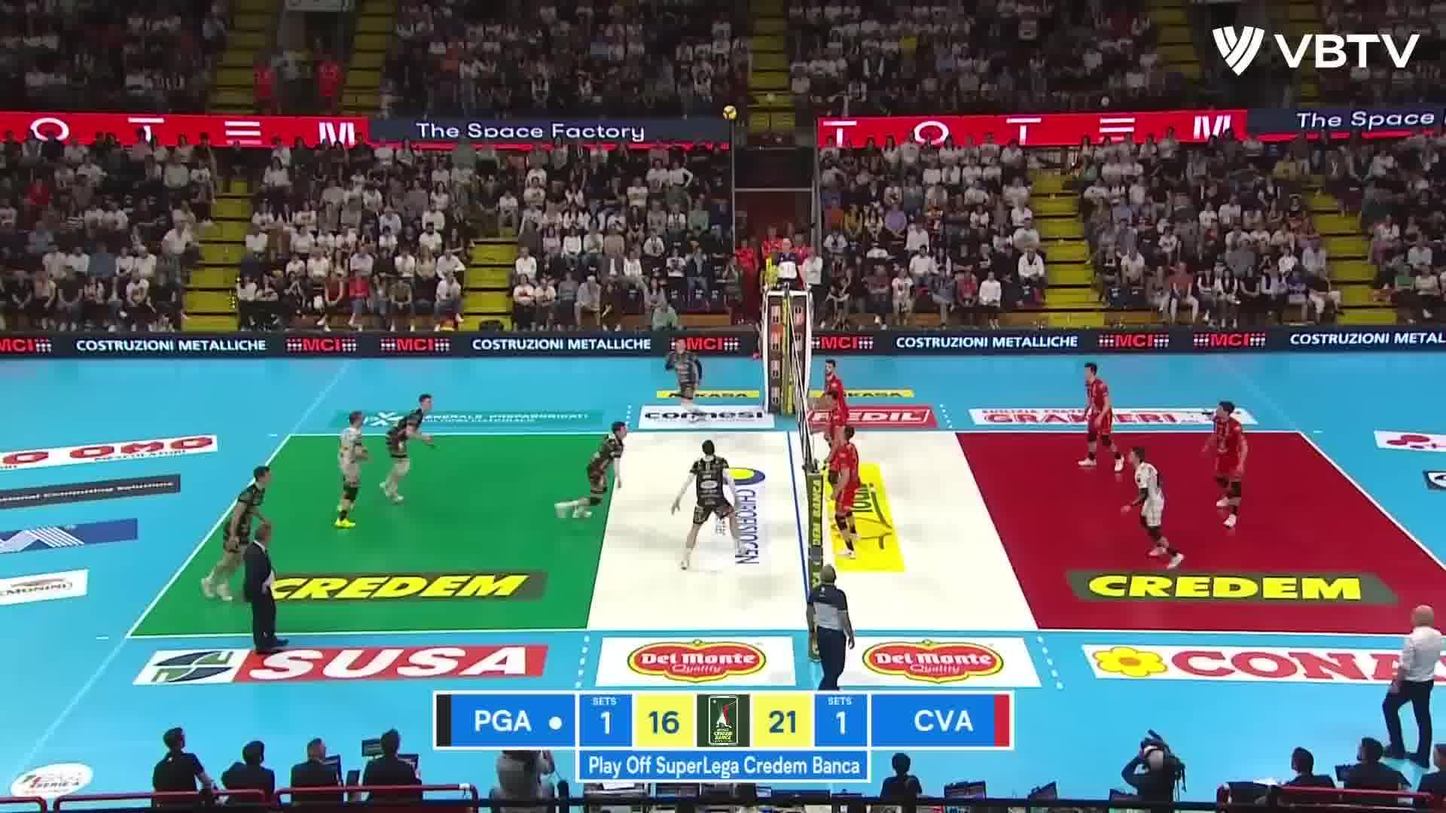balls: (719, 100, 741, 125)
